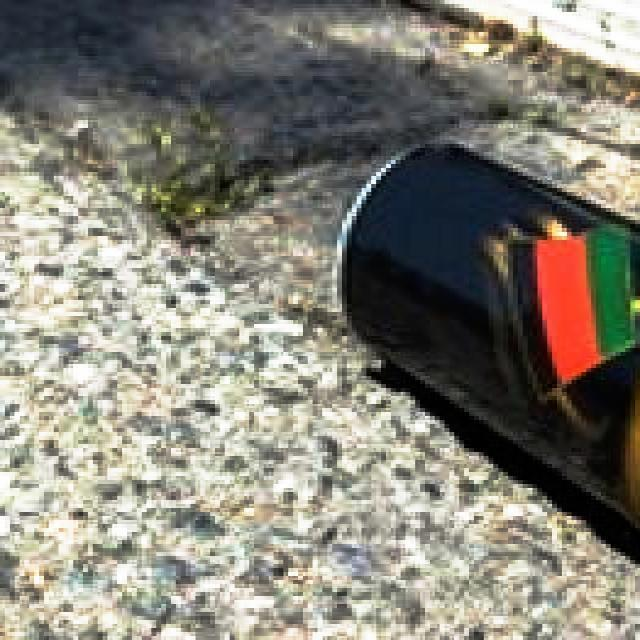Lata: (337, 143, 640, 541)
